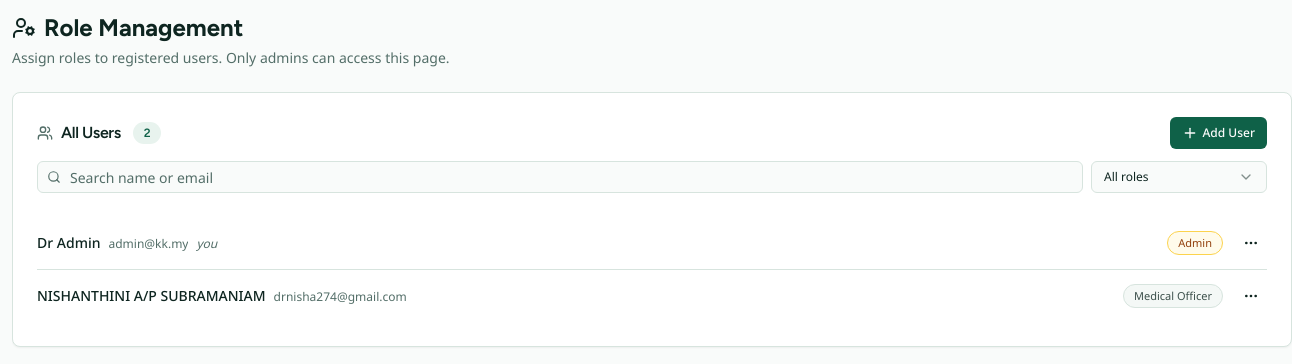
Test: RoleManagement user list › filters by name or email as you type
Expected: the text "Dr Admin" is shown, top-left (37, 233), bottom-right (100, 253)
Type "nisha" into the field named "search users" at (560, 177), box top-left (37, 161), bottom-right (1083, 193)
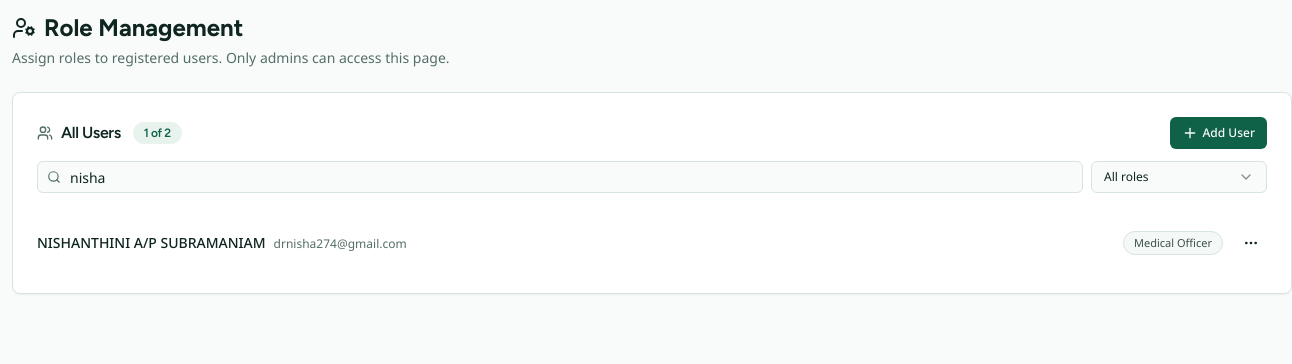
Expected: the text "NISHANTHINI A/P SUBRAMANIAM" is shown, top-left (37, 233), bottom-right (266, 253)
Expected: the text "Dr Admin" is gone
Note: Email is searched too, not just the display name.
Replace the text in the field named "search users" with "admin@kk" at (560, 177), box top-left (37, 161), bottom-right (1083, 193)
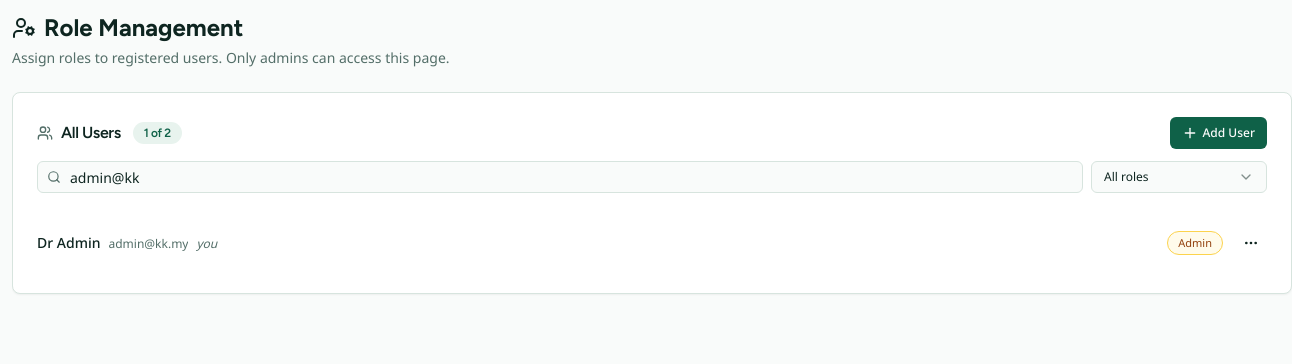
Expected: the text "Dr Admin" is shown, top-left (37, 233), bottom-right (100, 253)
Expected: the text "NISHANTHINI" is gone
